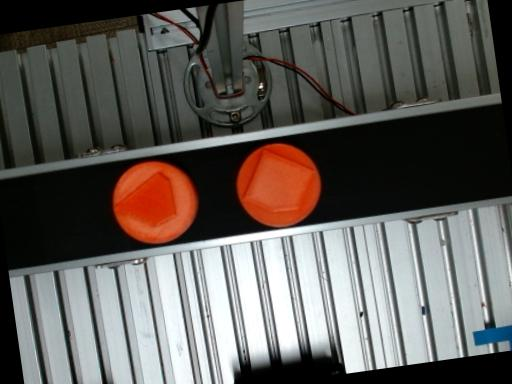Not_Square: (242, 148, 314, 213), (111, 172, 177, 229)
Orange_Waper: (236, 143, 321, 227), (113, 161, 199, 243)
